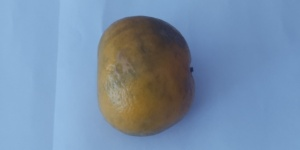BAD: (96, 16, 196, 140)
